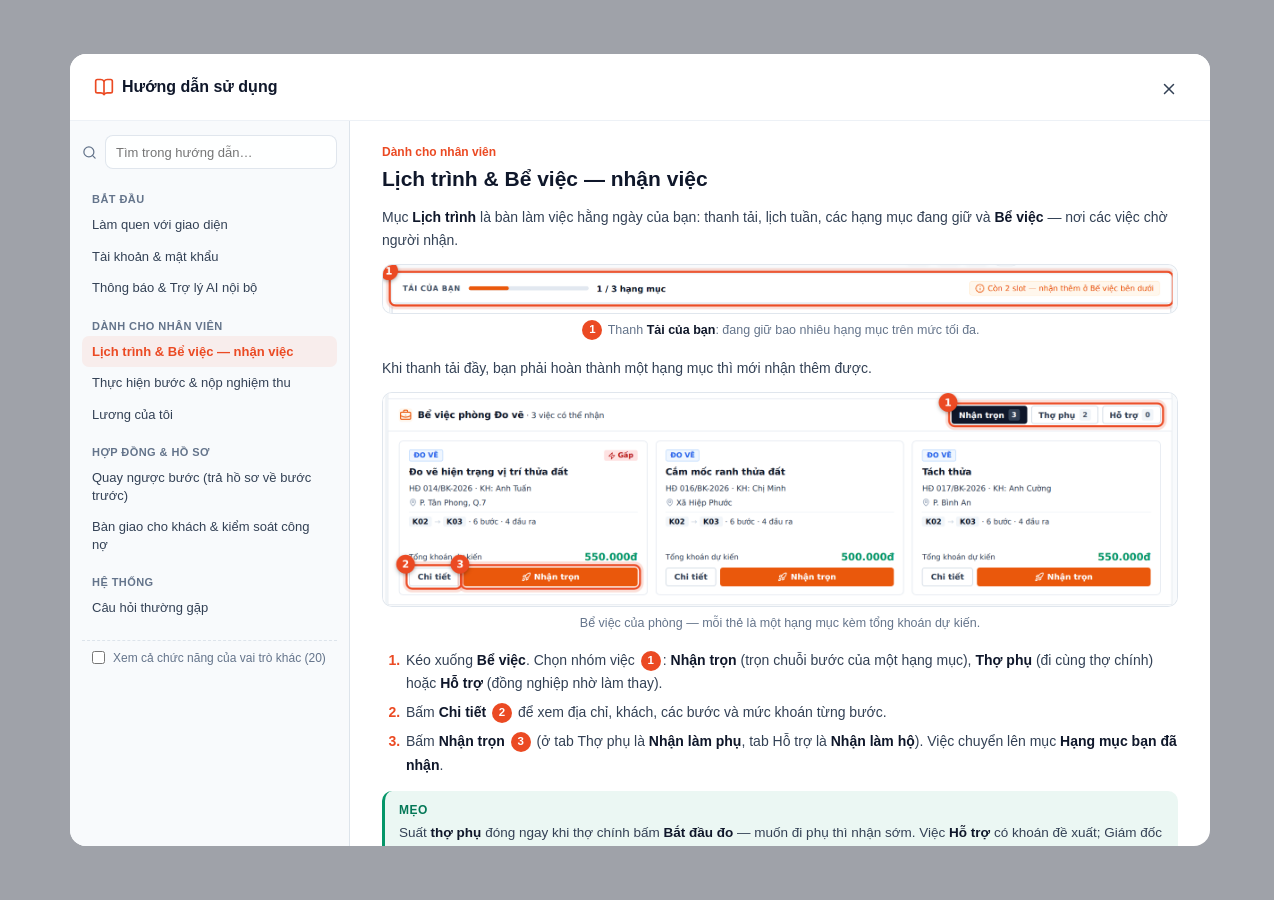
Test: HelpCenter › cho xem thêm chức năng của vai trò khác khi cần
Expected: the button "Quản Lý Timeline" is not shown
What coordinates should you click on to do the following:
click the checkbox labelled "Xem cả chức năng của vai trò khác (20)"
I would click on:
 (98, 658)
Its box is x1=92 y1=651 x2=105 y2=664.
(page scrolled)
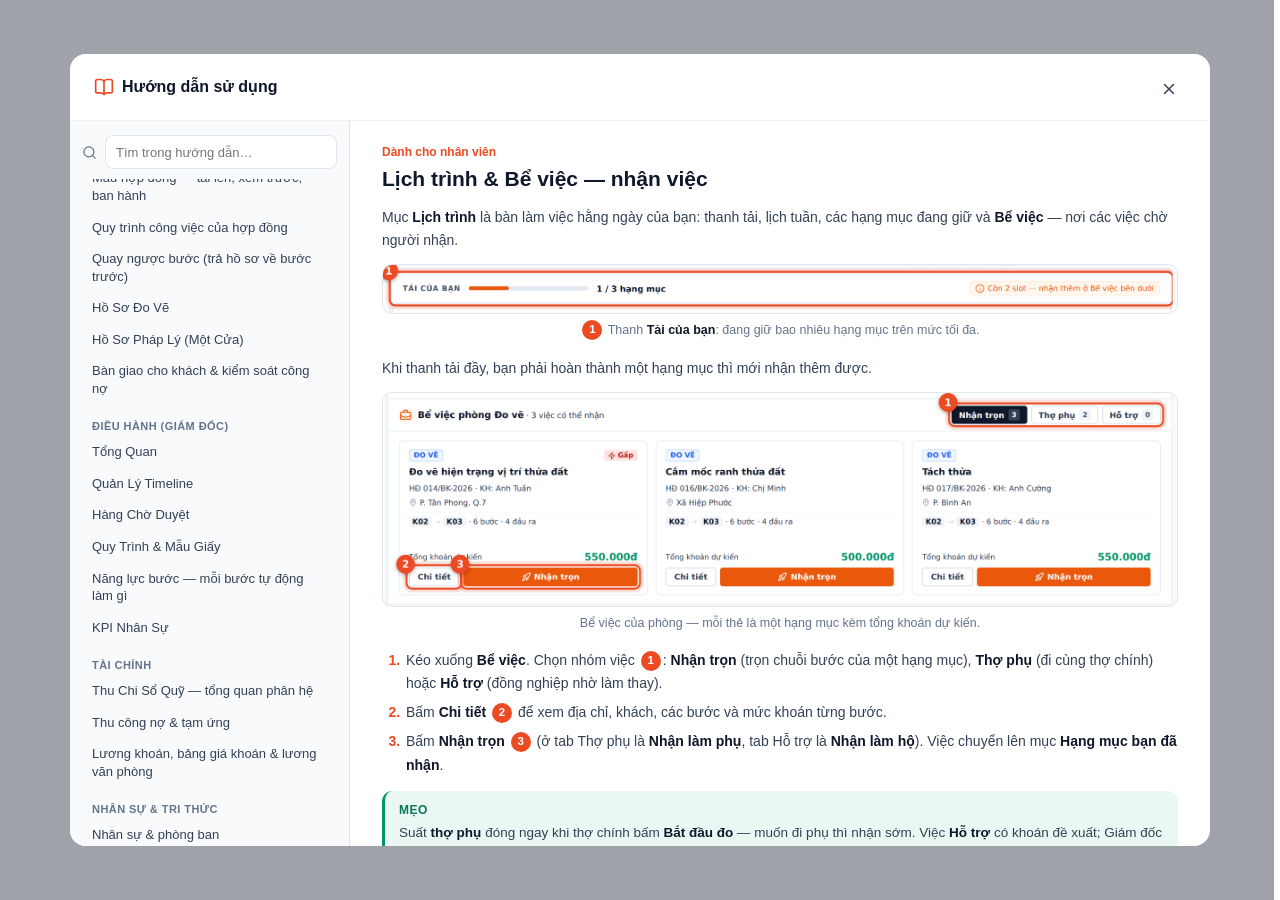
Result: the button "Quản Lý Timeline" is shown at x1=82 y1=468 x2=337 y2=499
